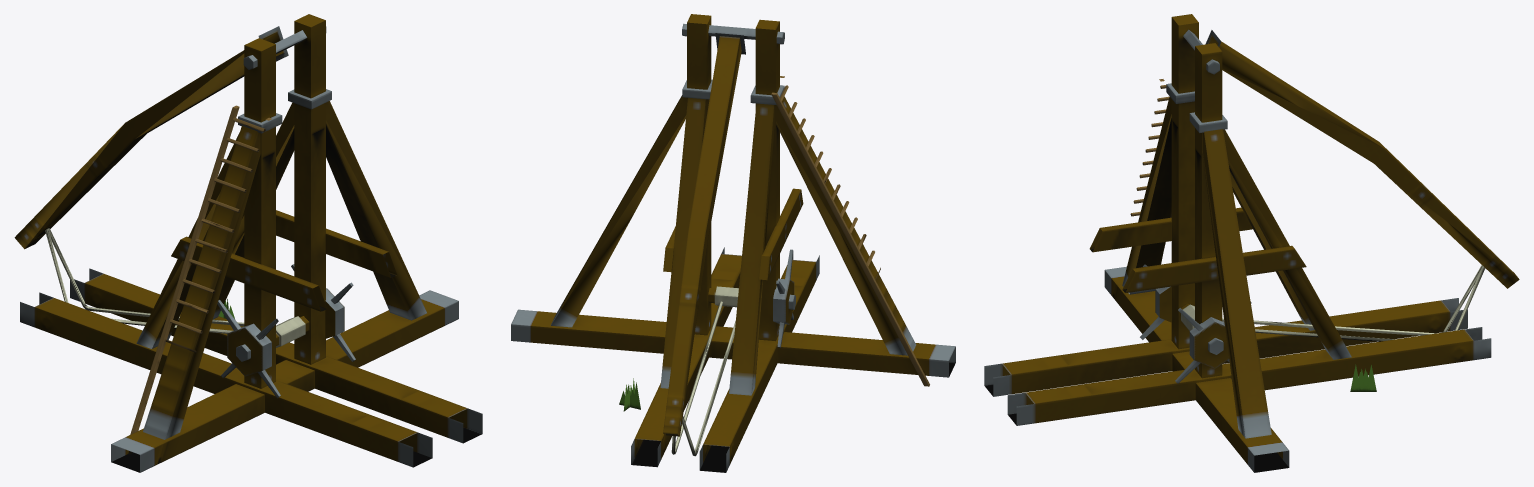
Rendered from siege-equipment---medieval-fantasy-chall-fcd2d0.glb.
The picture shows the model from 3 angles, left to right: view 1: azimuth 30°, elevation 25°; view 2: azimuth 150°, elevation 25°; view 3: azimuth 270°, elevation 25°; orthographic projection. The views are drawn at different scales.
Visible parts, largest first — view 1: PropMesh; view 2: PropMesh; view 3: PropMesh.
Part boxes in pixels (box(x1,y1,x2,y2)): PropMesh: box(14, 14, 482, 472); PropMesh: box(511, 14, 955, 472); PropMesh: box(984, 14, 1519, 472).
Size of the model in its own units: 2.32 by 2 by 2.75.
2 materials, 2 textured.
